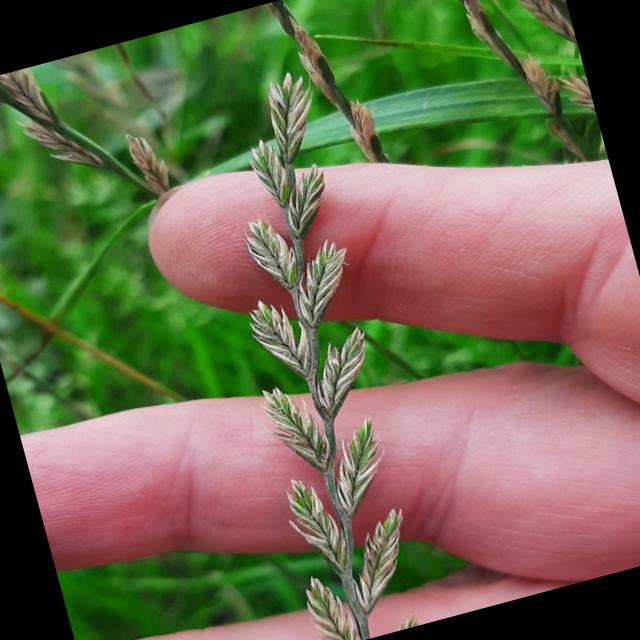Lolium: (164, 65, 455, 640)
